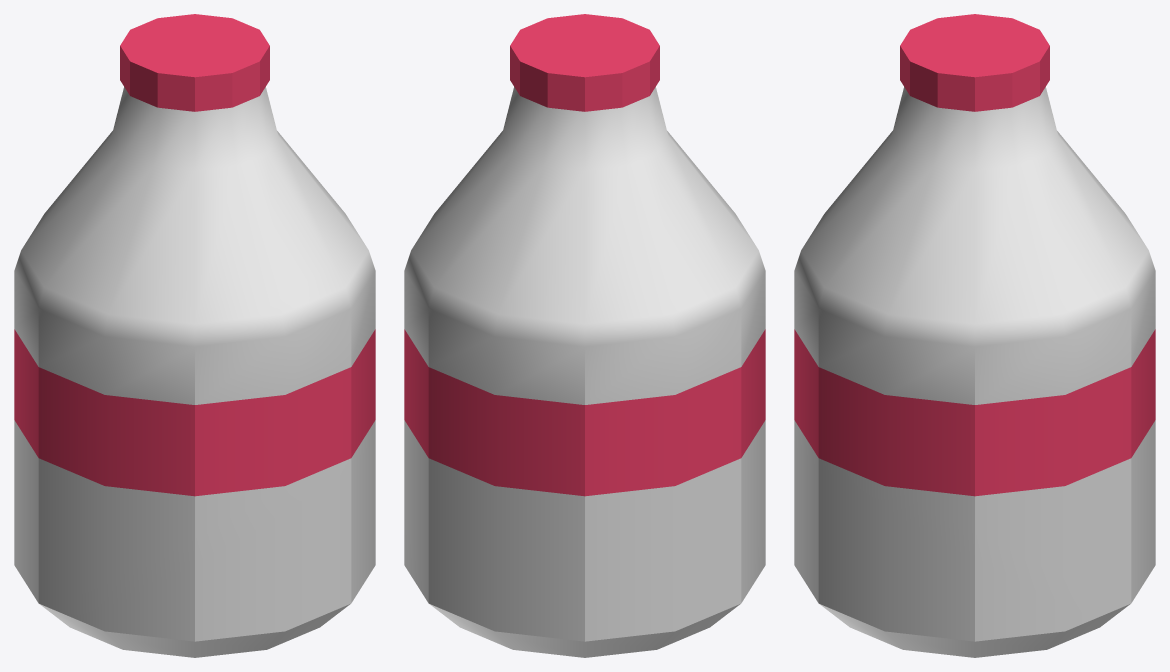
Rendered from Ürün62.fbx.
3 views of the same model, side by side, from view 1: azimuth 30°, elevation 25°; view 2: azimuth 150°, elevation 25°; view 3: azimuth 270°, elevation 25° (orthographic).
Visible parts, largest first — view 1: pCylinder40; view 2: pCylinder40; view 3: pCylinder40.
Boxes of the visible parts, x1,y1,x2,y2 form: pCylinder40: (14,14,375,657); pCylinder40: (404,14,765,657); pCylinder40: (794,14,1155,657).
Bounding box in the file's own units: 22.2 × 37.39 × 22.2.
